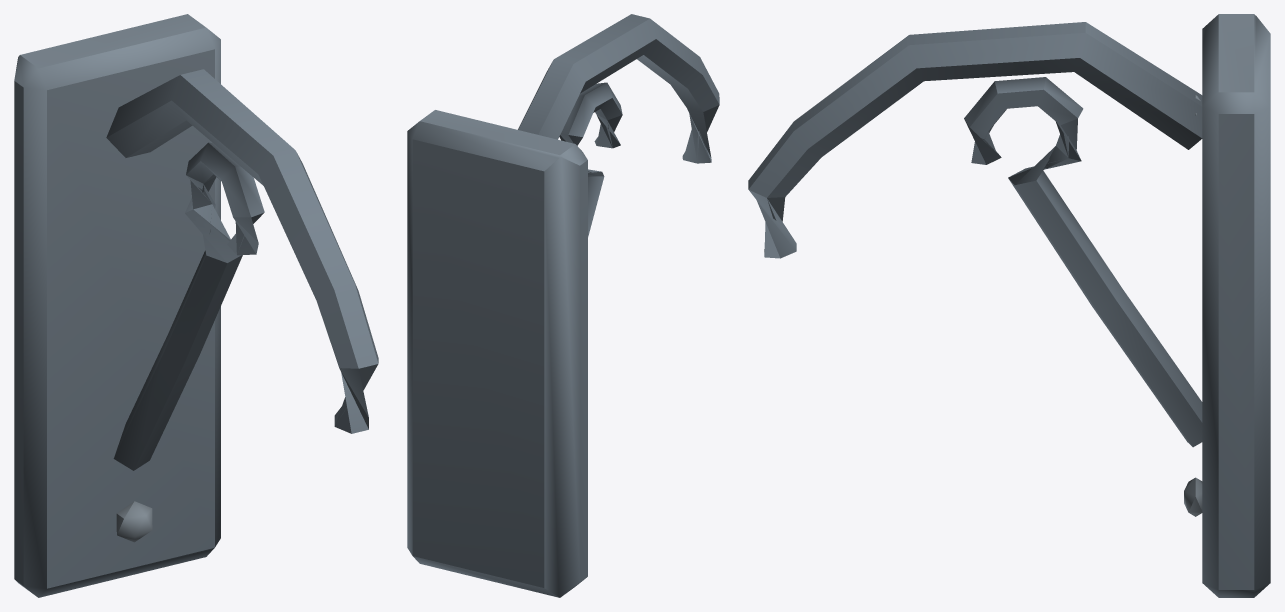
File: ruins-bracket-v3.glb
The picture shows the model from 3 angles, left to right: view 1: azimuth 30°, elevation 25°; view 2: azimuth 150°, elevation 25°; view 3: azimuth 270°, elevation 25°; orthographic projection. The views are drawn at different scales.
Visible parts, largest first — view 1: 0_ruins_bracket; view 2: 0_ruins_bracket; view 3: 0_ruins_bracket.
Boxes of the visible parts, x1,y1,x2,y2 form: 0_ruins_bracket: (14,14,378,597); 0_ruins_bracket: (407,14,719,597); 0_ruins_bracket: (748,14,1270,597).
Bounding box in the file's own units: 0.16 × 0.4309 × 0.3835.
